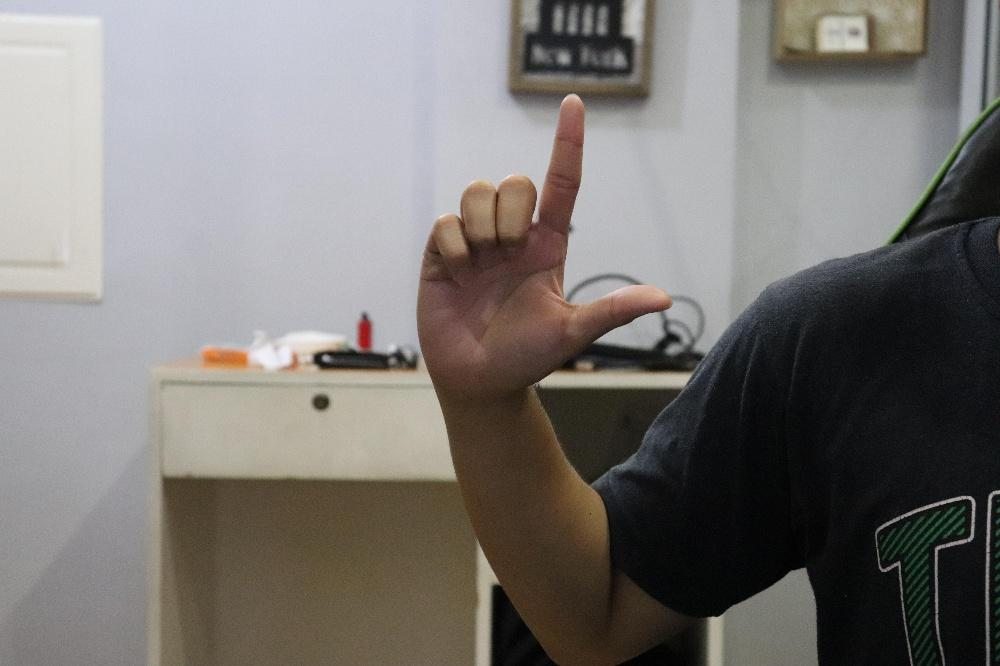l: (414, 91, 672, 400)
